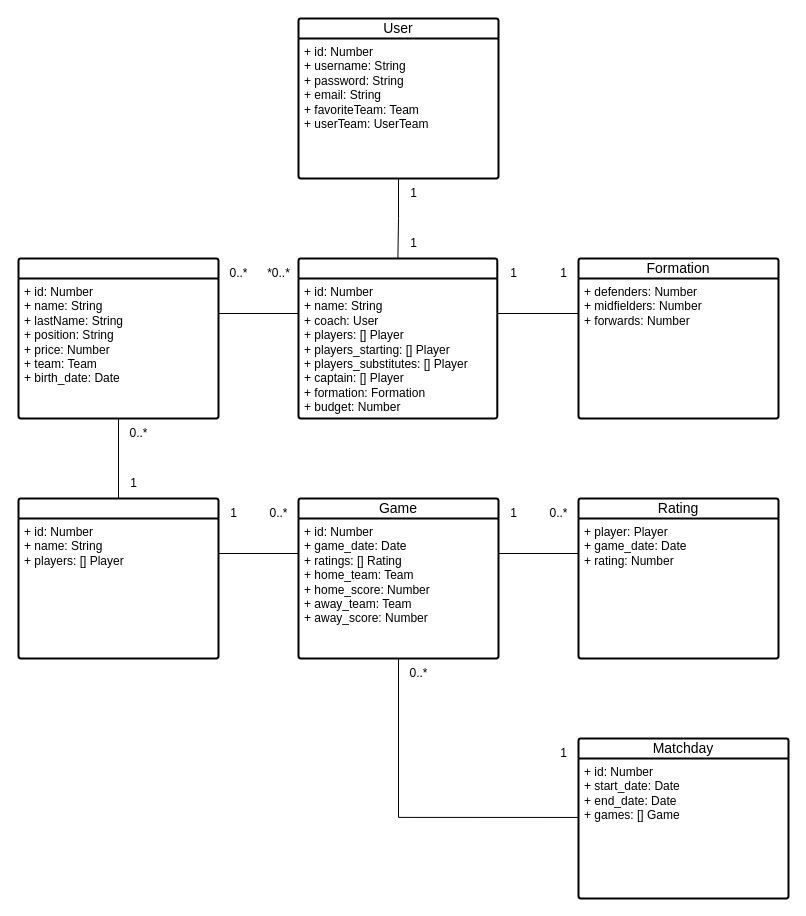
Image size: 806x916. Some labels were removed from this diagram. The shapes that lost their labels are listed below. From the top down, each one's box as (x1, y1, x2, y2) in pixels, then its label:
(17, 257, 219, 419): Player
(297, 257, 498, 419): UserTeam
(17, 497, 219, 659): Team
